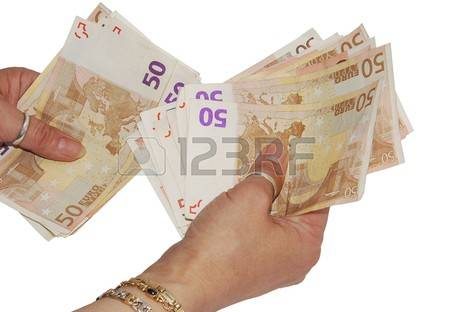billete: (127, 23, 415, 242), (1, 1, 203, 245)
